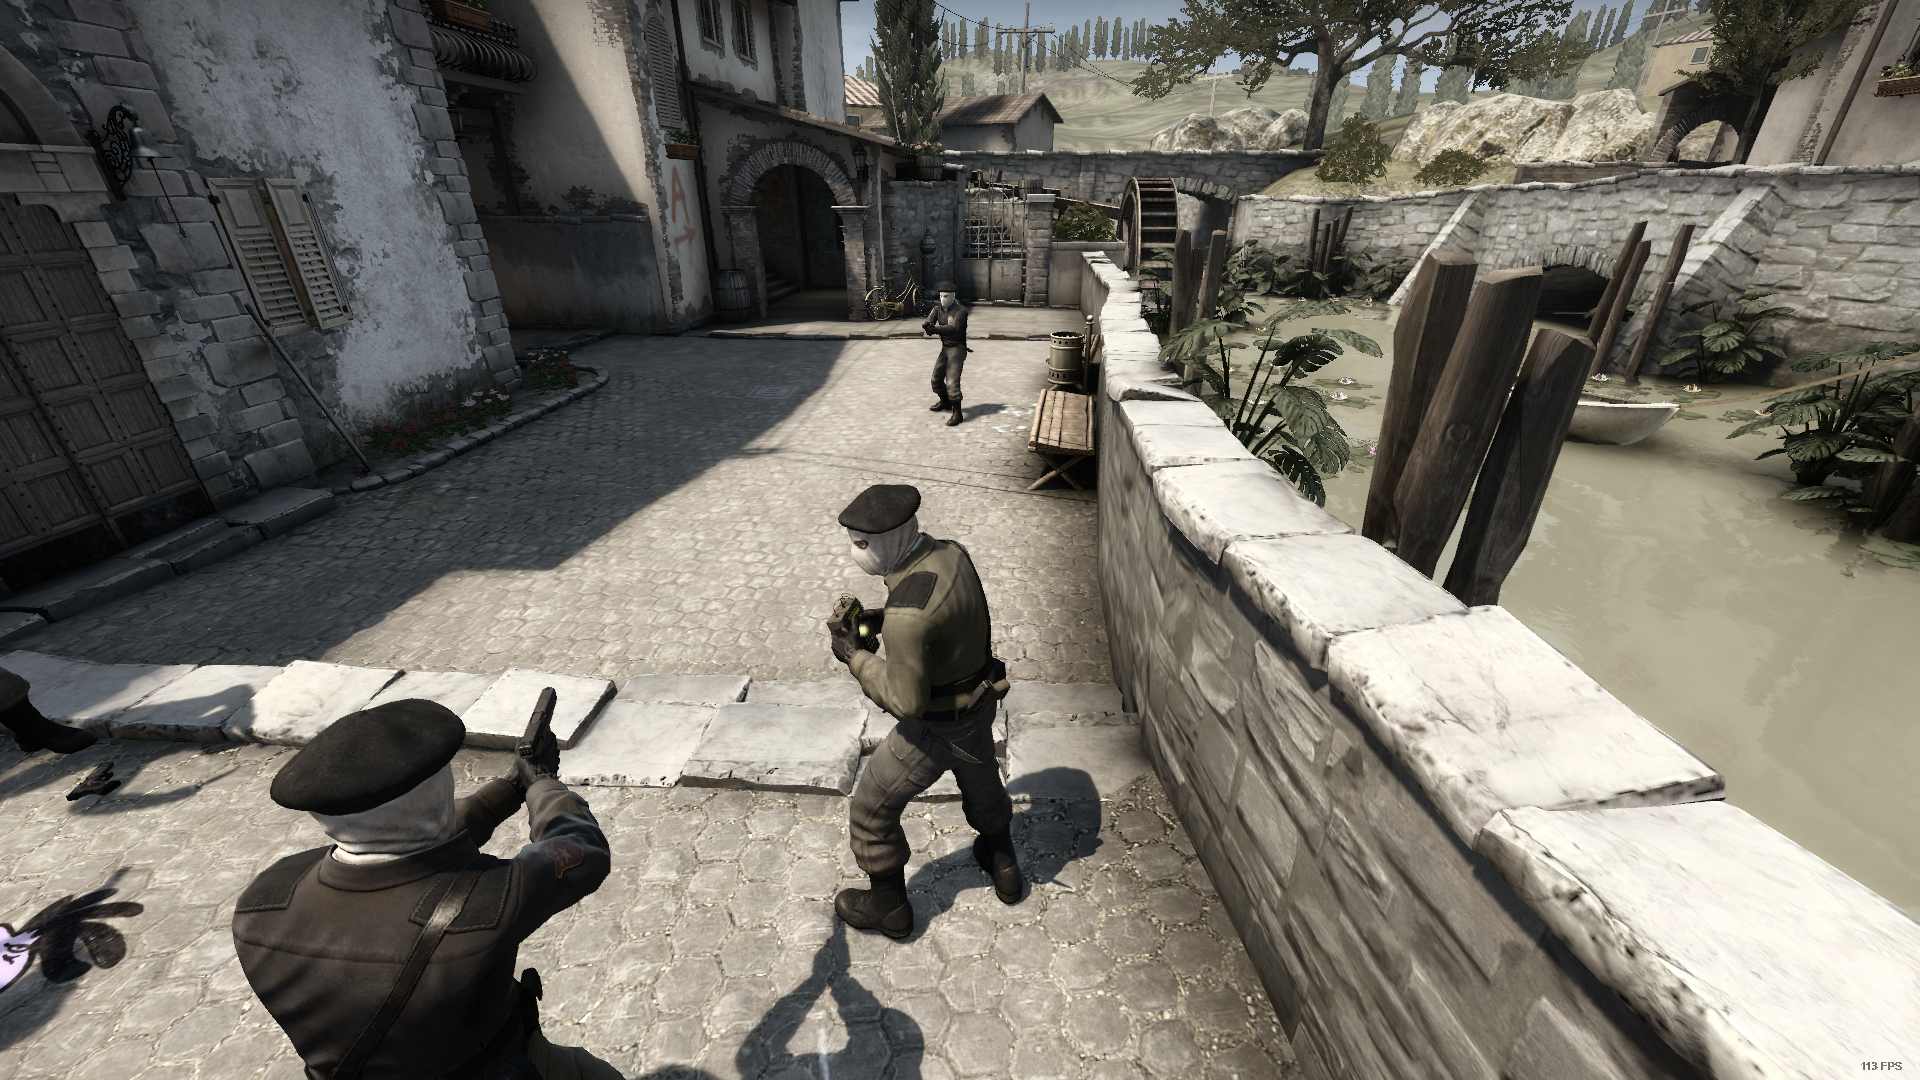t: (233, 699, 611, 1080), (829, 483, 1027, 940), (923, 282, 971, 423)
